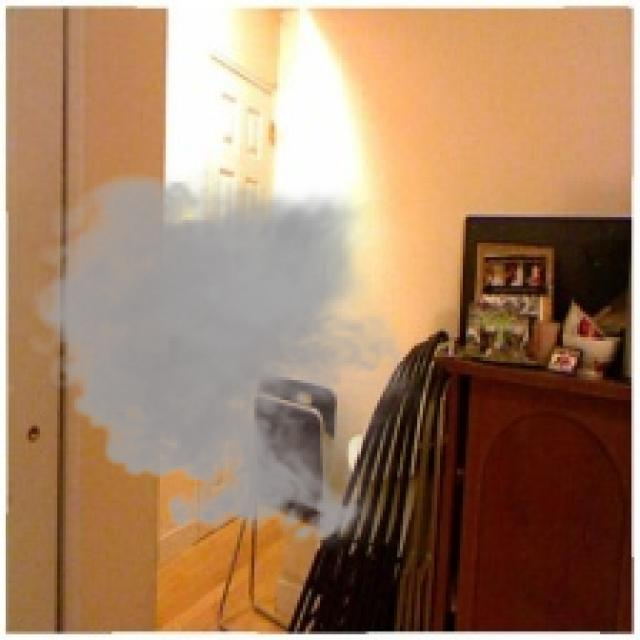smoke: (20, 160, 426, 554)
